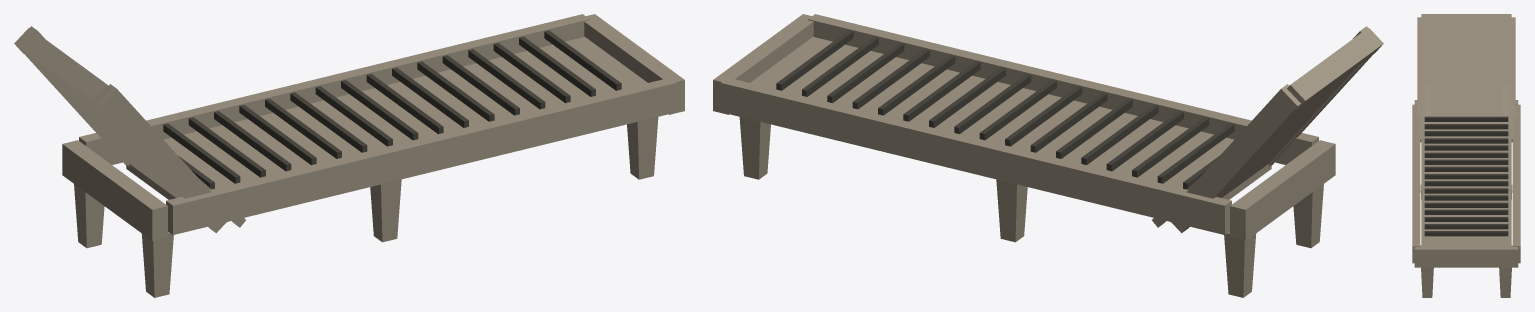
The model's file is SunLounger_LowPoly.obj.
3 renders of one model, left to right at view 1: azimuth 30°, elevation 25°; view 2: azimuth 150°, elevation 25°; view 3: azimuth 270°, elevation 25°, orthographic. The views are drawn at different scales.
Parts seen in each view (by area): view 1: right_side_frame, main_deck, left_side_frame, rear_frame, back_right_rail, front_frame, back_top_rail, back_panel_base, rear_leg_right, middle_leg_right, front_leg_right, rear_leg_left (+17 smaller); view 2: left_side_frame, main_deck, right_side_frame, rear_frame, back_left_rail, front_frame, back_top_rail, back_panel_base, rear_leg_left, middle_leg_left, front_leg_left, rear_leg_right (+17 smaller); view 3: back_panel_base, main_deck, front_frame, left_side_frame, right_side_frame, back_left_rail, back_right_rail, back_top_rail, seat_slat_04, seat_slat_05, seat_slat_11, seat_slat_12 (+17 smaller).
Boxes of the visible parts, x1=… form: right_side_frame: x1=166, y1=77, x2=676, y2=234; main_deck: x1=126, y1=37, x2=647, y2=199; left_side_frame: x1=79, y1=14, x2=589, y2=164; rear_frame: x1=62, y1=140, x2=167, y2=240; back_right_rail: x1=97, y1=84, x2=226, y2=233; front_frame: x1=584, y1=14, x2=684, y2=114; back_top_rail: x1=14, y1=27, x2=110, y2=109; back_panel_base: x1=40, y1=66, x2=180, y2=197; rear_leg_right: x1=141, y1=231, x2=173, y2=297; middle_leg_right: x1=370, y1=179, x2=401, y2=242; front_leg_right: x1=627, y1=117, x2=658, y2=179; rear_leg_left: x1=74, y1=184, x2=104, y2=248; left_side_frame: x1=721, y1=77, x2=1231, y2=234; main_deck: x1=750, y1=37, x2=1271, y2=199; right_side_frame: x1=808, y1=14, x2=1318, y2=164; rear_frame: x1=1230, y1=140, x2=1335, y2=240; back_left_rail: x1=1171, y1=84, x2=1300, y2=233; front_frame: x1=713, y1=14, x2=813, y2=114; back_top_rail: x1=1287, y1=27, x2=1383, y2=109; back_panel_base: x1=1217, y1=66, x2=1357, y2=197; rear_leg_left: x1=1224, y1=231, x2=1256, y2=297; middle_leg_left: x1=996, y1=179, x2=1027, y2=242; front_leg_left: x1=739, y1=117, x2=770, y2=179; rear_leg_right: x1=1293, y1=184, x2=1323, y2=248; back_panel_base: x1=1424, y1=20, x2=1508, y2=123; main_deck: x1=1421, y1=129, x2=1511, y2=245; front_frame: x1=1414, y1=245, x2=1518, y2=267; left_side_frame: x1=1512, y1=104, x2=1520, y2=263; right_side_frame: x1=1412, y1=104, x2=1420, y2=263; back_left_rail: x1=1508, y1=17, x2=1515, y2=142; back_right_rail: x1=1417, y1=17, x2=1424, y2=142; back_top_rail: x1=1421, y1=14, x2=1511, y2=20; seat_slat_04: x1=1424, y1=138, x2=1508, y2=143; seat_slat_05: x1=1424, y1=145, x2=1508, y2=150; seat_slat_11: x1=1424, y1=188, x2=1508, y2=193; seat_slat_12: x1=1424, y1=195, x2=1508, y2=200.
Bounding box in the file's own units: 6.7 × 2.46 × 1.86.
